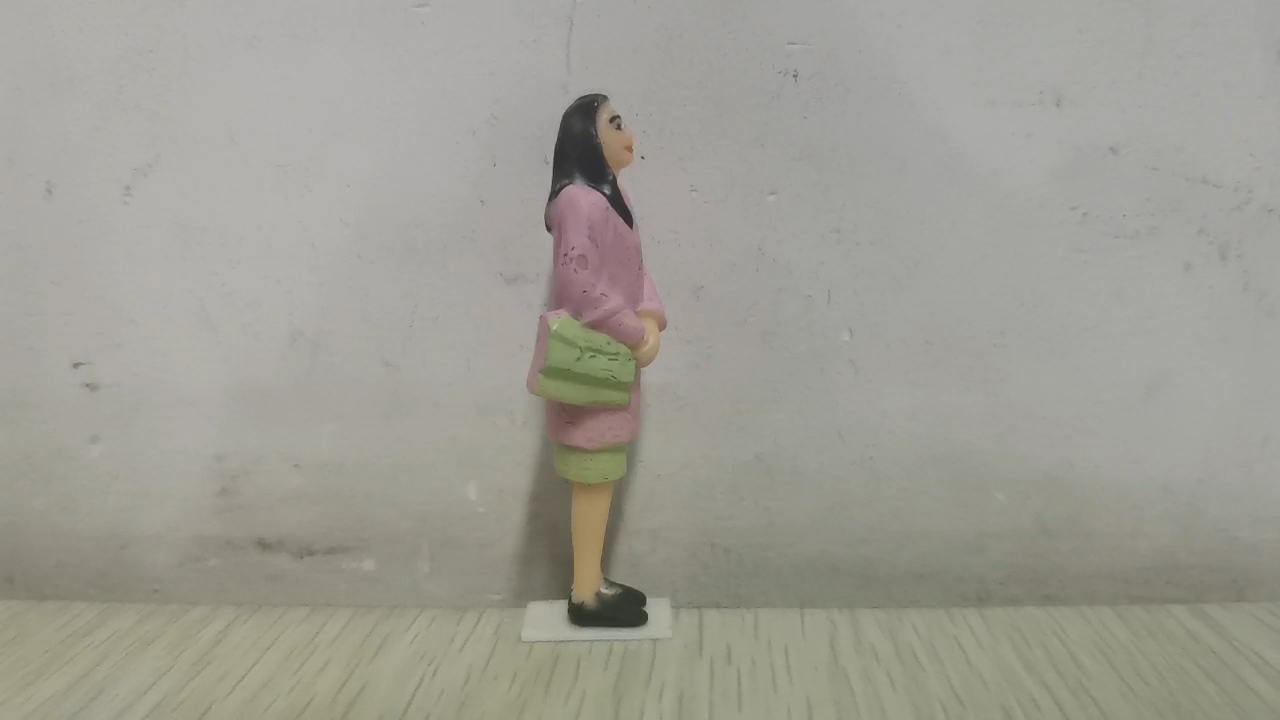person: (527, 92, 670, 629)
